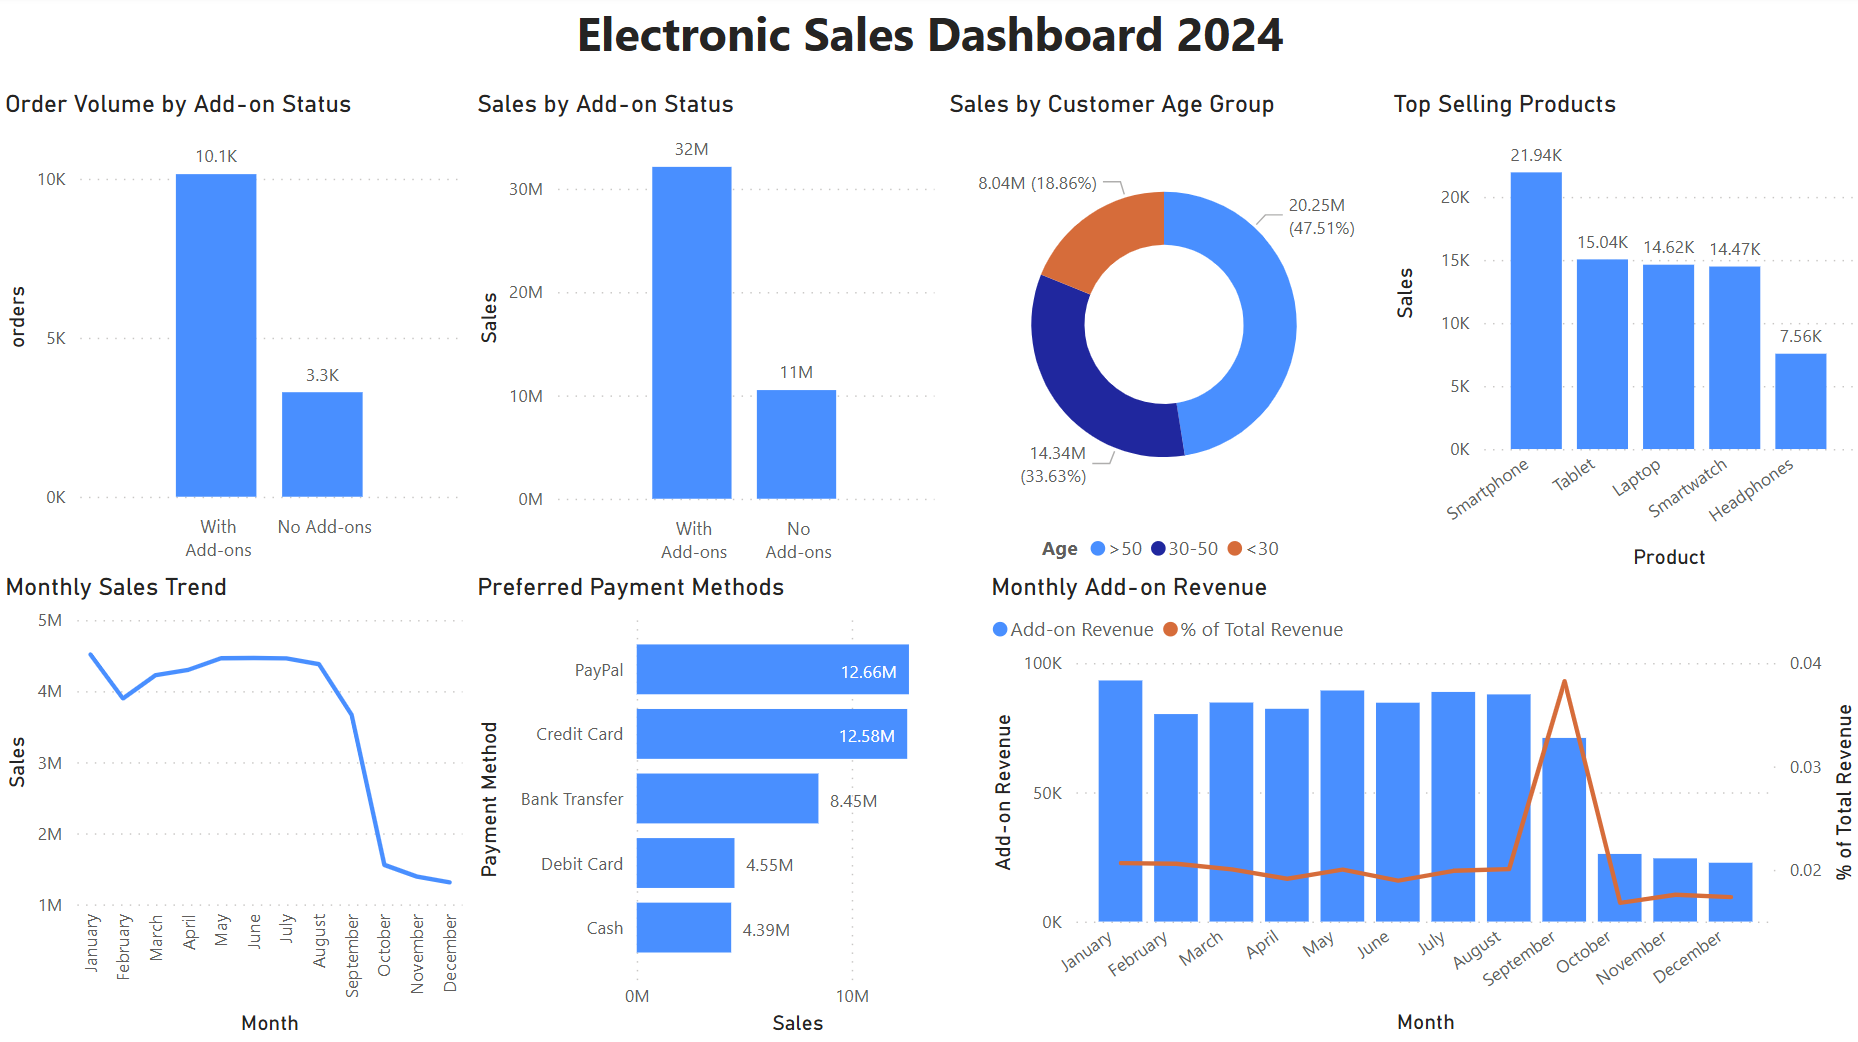

What the dashboard file says about the page in this screenshot:
{"tool":"powerbi","page":{"name":"Page 1","canvas":[1280,720],"ordinal":0},"visuals":[{"type":"lineChart","title":"Monthly Sales Trend","fields":{"Category":["Monthly_Sales_Trend.YearMonthDate.Variation.Date Hierarchy.Month"],"Y":["Sum(Monthly_Sales_Trend.total_sales)"]},"box":[0,396.9,324.1,322.7],"z":0},{"type":"clusteredColumnChart","title":"Top Selling Products","fields":{"Y":["Sum(Top_Selling_Products.total_units_sold)"],"Category":["Top_Selling_Products.Product Type"]},"box":[953.1,65.9,326.9,333.7],"z":1000},{"type":"donutChart","title":"Sales by Customer Age Group","fields":{"Category":["Sales_by_Age_Group.Age Group"],"Y":["Sum(Sales_by_Age_Group.total_sales)"]},"box":[648.2,65.9,304.9,333.7],"z":2000},{"type":"barChart","title":"Preferred Payment Methods","fields":{"Category":["Sales_by_Payment_Method.Payment Method"],"Y":["Sum(Sales_by_Payment_Method.total_sales)"]},"box":[324.1,396.9,353,322.7],"z":3000},{"type":"clusteredColumnChart","title":"Order Volume by Add-on Status","fields":{"Category":["Addons_Impact.addon_group"],"Y":["Sum(Addons_Impact.orders)"]},"box":[0,65.9,324.1,331],"z":4000},{"type":"columnChart","title":"Sales by Add-on Status","fields":{"Category":["Addons_Impact.addon_group"],"Y":["Sum(Addons_Impact.total_sales)"]},"box":[324.1,65.9,324.1,332.4],"z":5000},{"type":"lineStackedColumnComboChart","title":"Monthly Add-on Revenue","fields":{"Y2":["Sum(Monthly_Addon_Revenue.addon_share_of_sales)"],"Y":["Sum(Monthly_Addon_Revenue.total_addon_revenue)"],"Category":["Monthly_Addon_Revenue.YearMonthDate.Variation.Date Hierarchy.Month"]},"box":[677.1,396.9,602.9,321.4],"z":6000},{"type":"textbox","box":[0,0,1280,65.9],"z":6001}]}

Visuals, with their boxes in screenshot pixels (x1, y1, x2, y2), scaled from the page's 1280x720 canvas onto the 1858x1042 screenshot:
"Monthly Sales Trend" lineChart: l=0, t=574, r=470, b=1041
"Top Selling Products" clusteredColumnChart: l=1383, t=95, r=1857, b=578
"Sales by Customer Age Group" donutChart: l=941, t=95, r=1383, b=578
"Preferred Payment Methods" barChart: l=470, t=574, r=983, b=1041
"Order Volume by Add-on Status" clusteredColumnChart: l=0, t=95, r=470, b=574
"Sales by Add-on Status" columnChart: l=470, t=95, r=941, b=576
"Monthly Add-on Revenue" lineStackedColumnComboChart: l=983, t=574, r=1857, b=1040
textbox: l=0, t=0, r=1857, b=95
